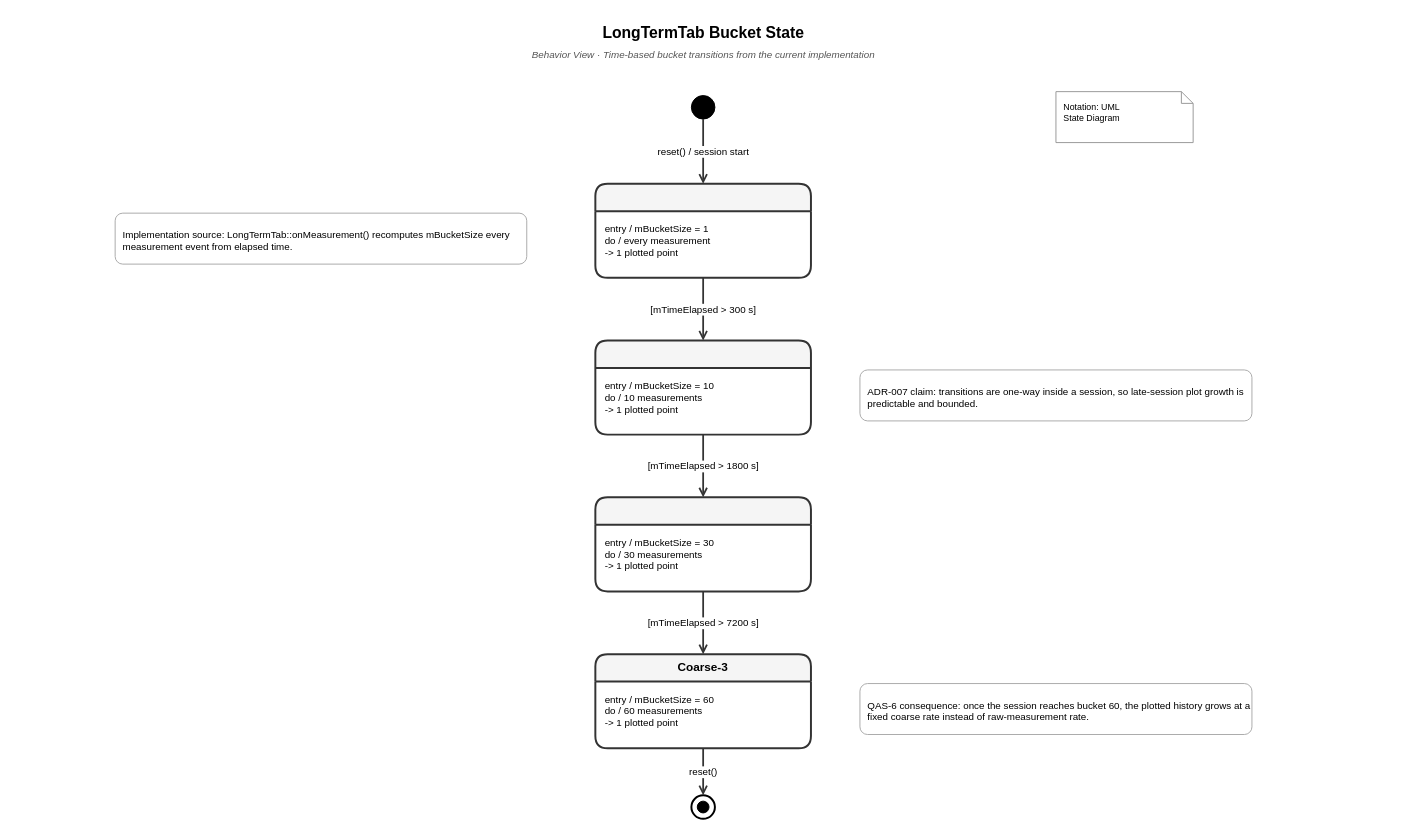
Image size: 1405x836. Some labels were removed from this diagram. Each missing label, with the box of its shape:
Coarse-1: (594, 339, 811, 435)
Coarse-2: (594, 496, 811, 592)
Live: (594, 182, 811, 278)
